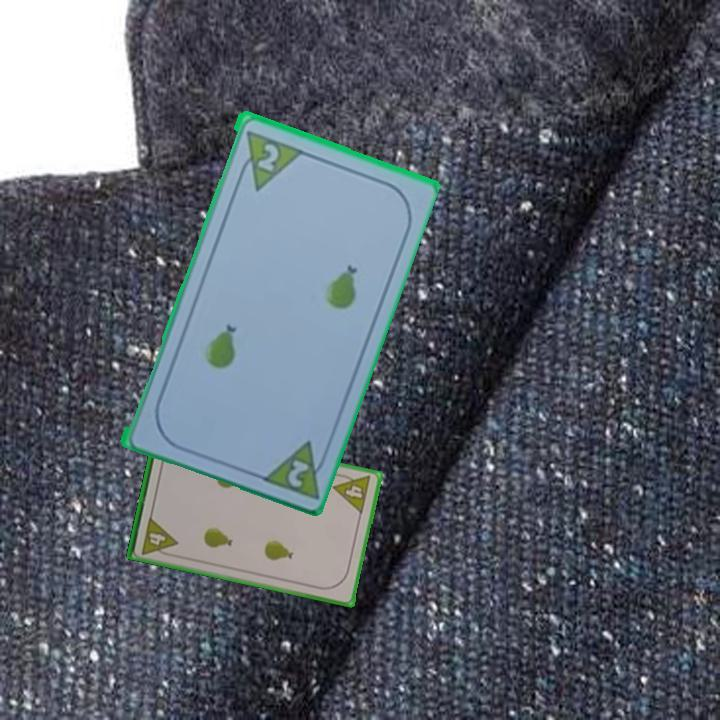2p: (253, 139, 282, 174), (283, 455, 312, 490)
4p: (330, 469, 374, 517), (138, 513, 180, 560)
